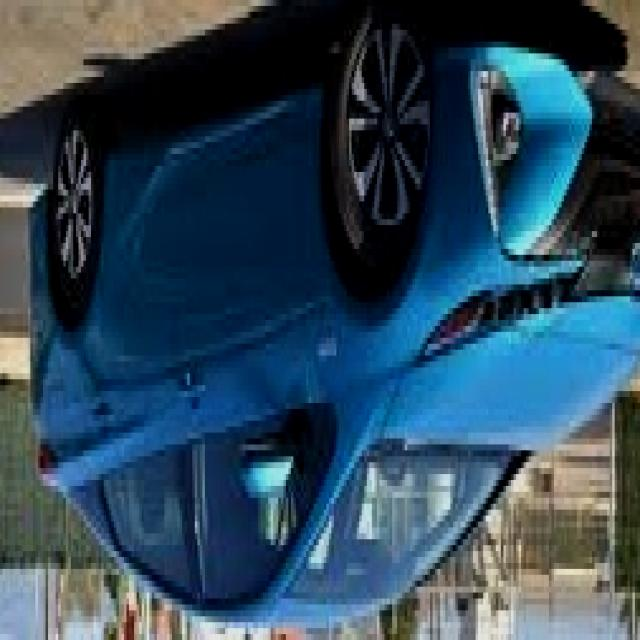blue: (15, 6, 640, 640)
